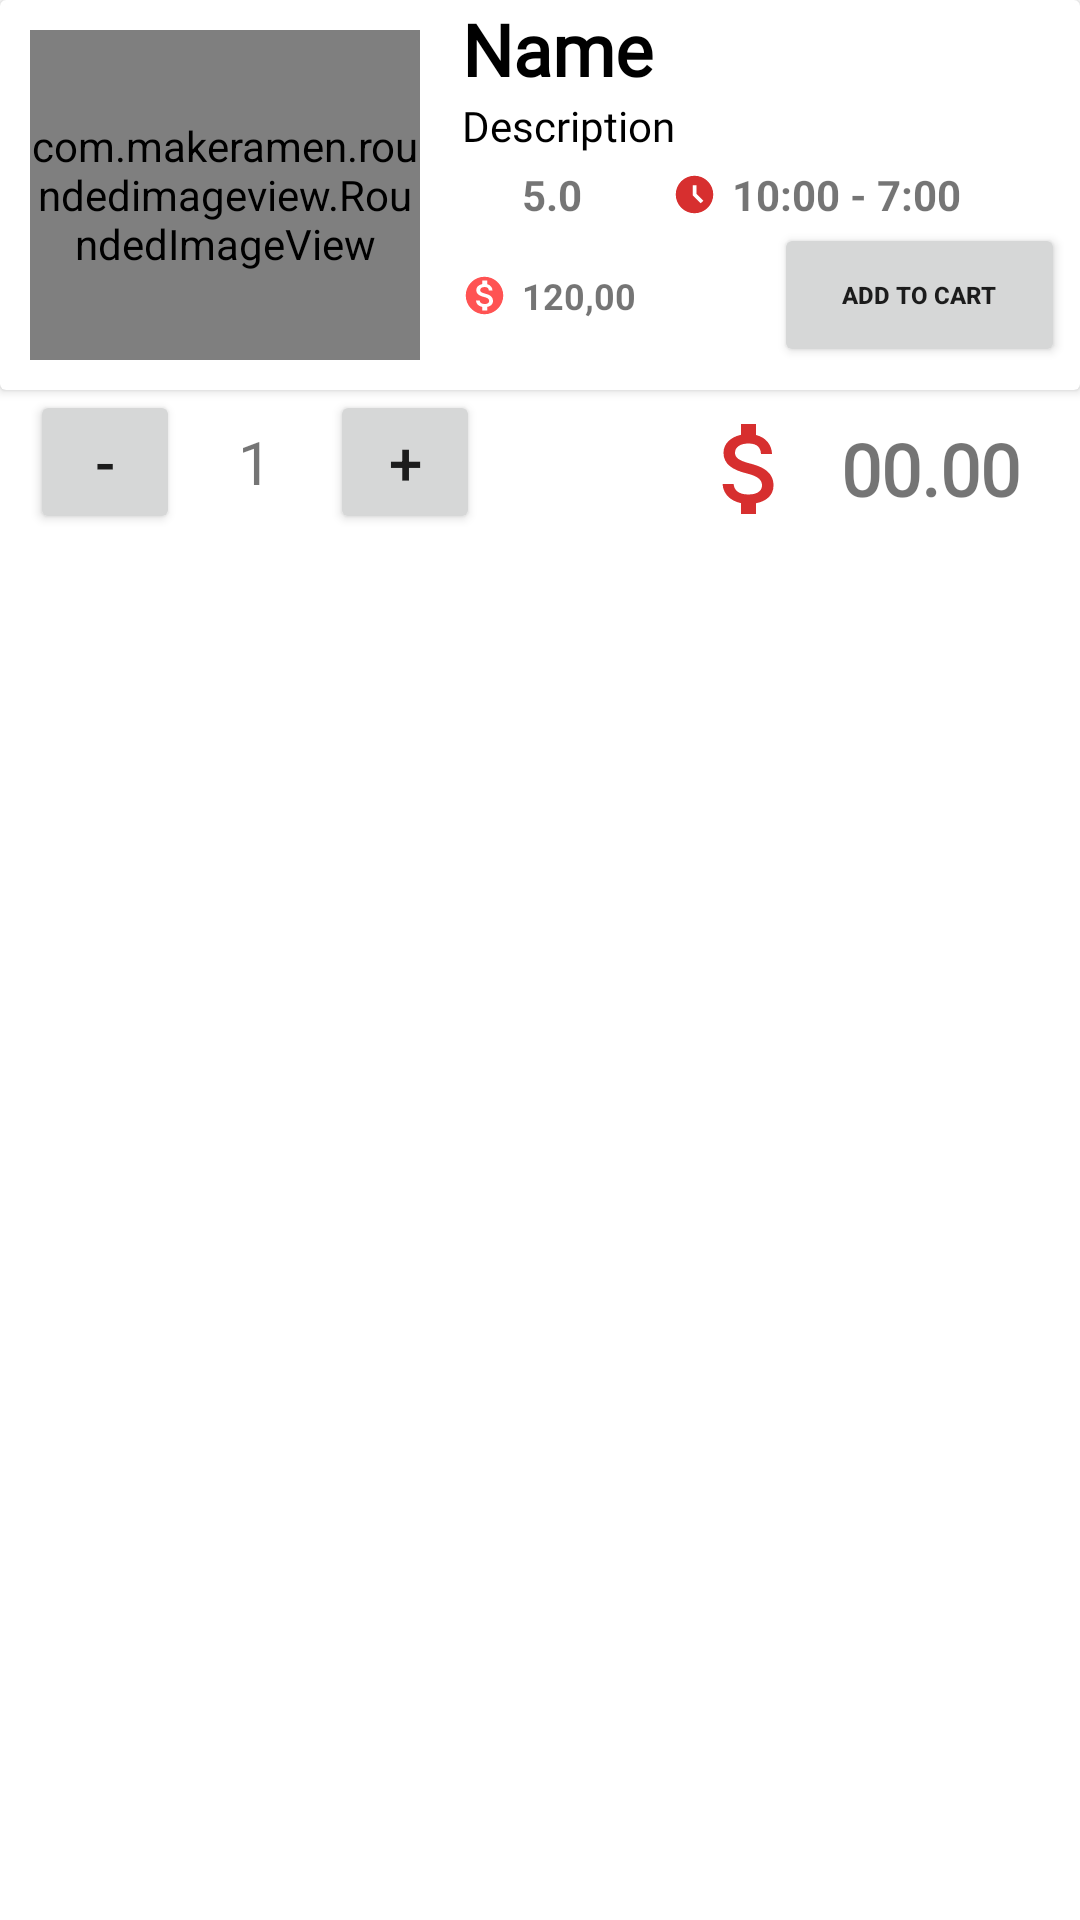

Icon click points for this 1080px×1920px phone screenshot, format (x,y):
access time: (694,194)
attach money dollar: (748,469)
monetization on: (484,295)
